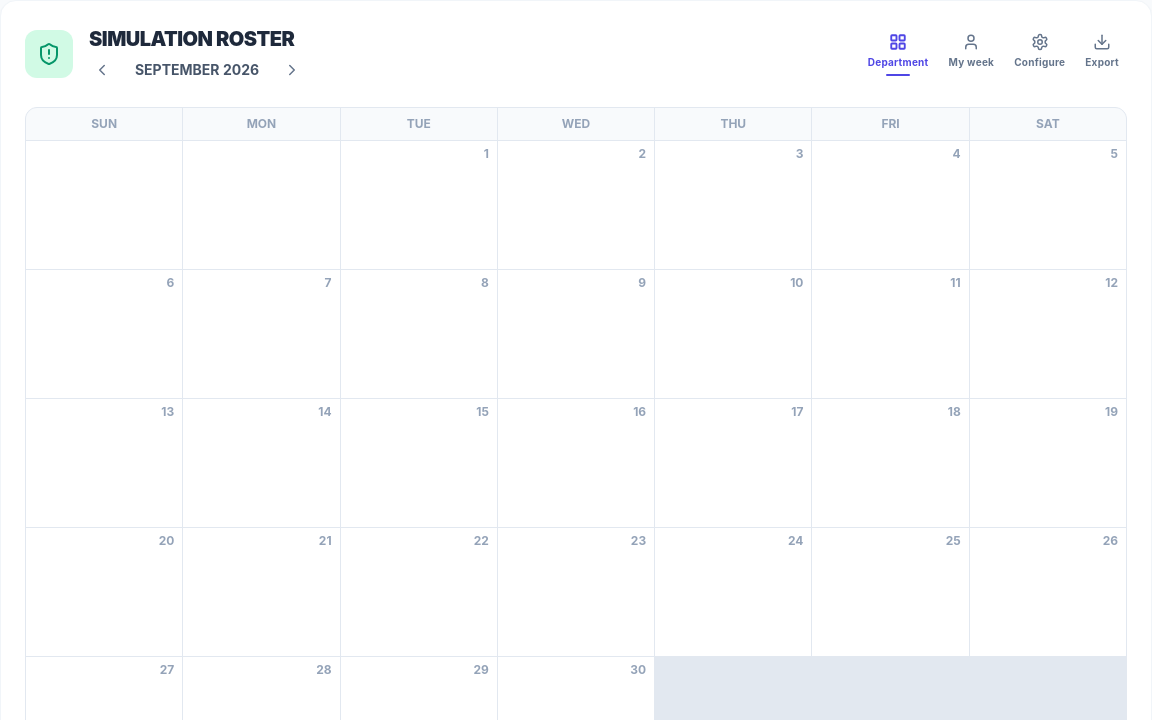
it: the nine controls are on screen in the sandbox wizard › states the continuity trade-off on screen, where the surprise would happen
Step 1. Click the button "Configure" → point(1040, 54), box [1006,26,1073,82]
(page scrolled)
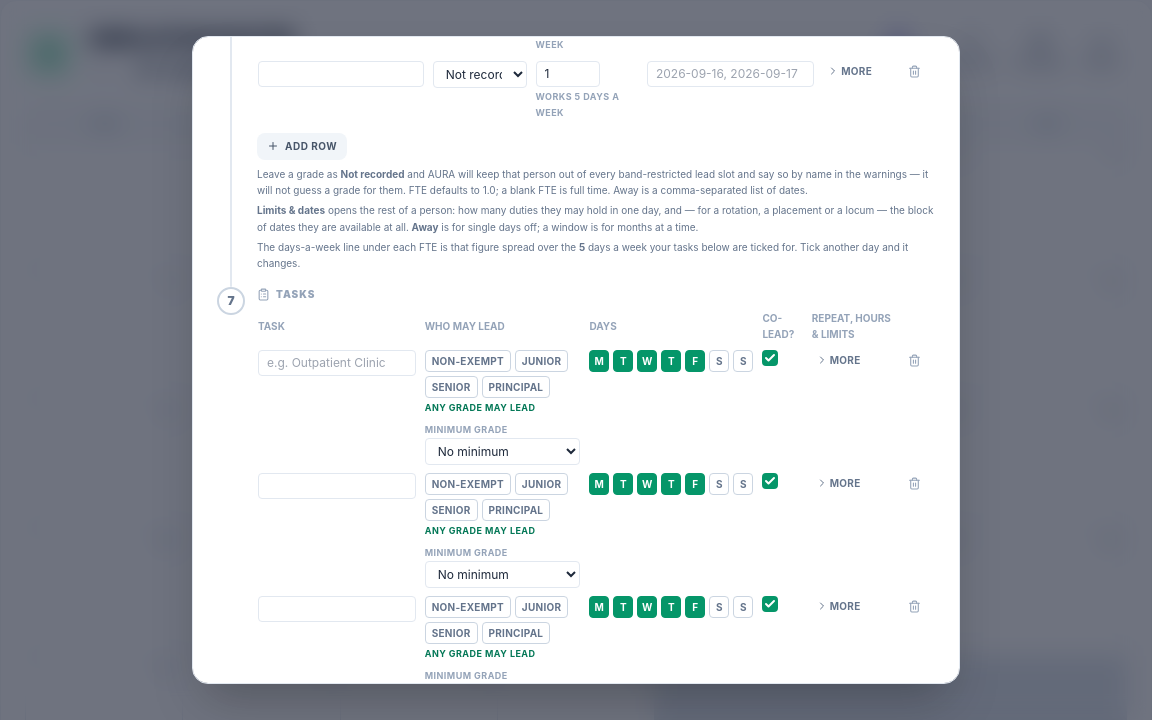
Step 2. Click the 2nd button "More" → point(838, 360), box [812,350,864,370]
(page scrolled)
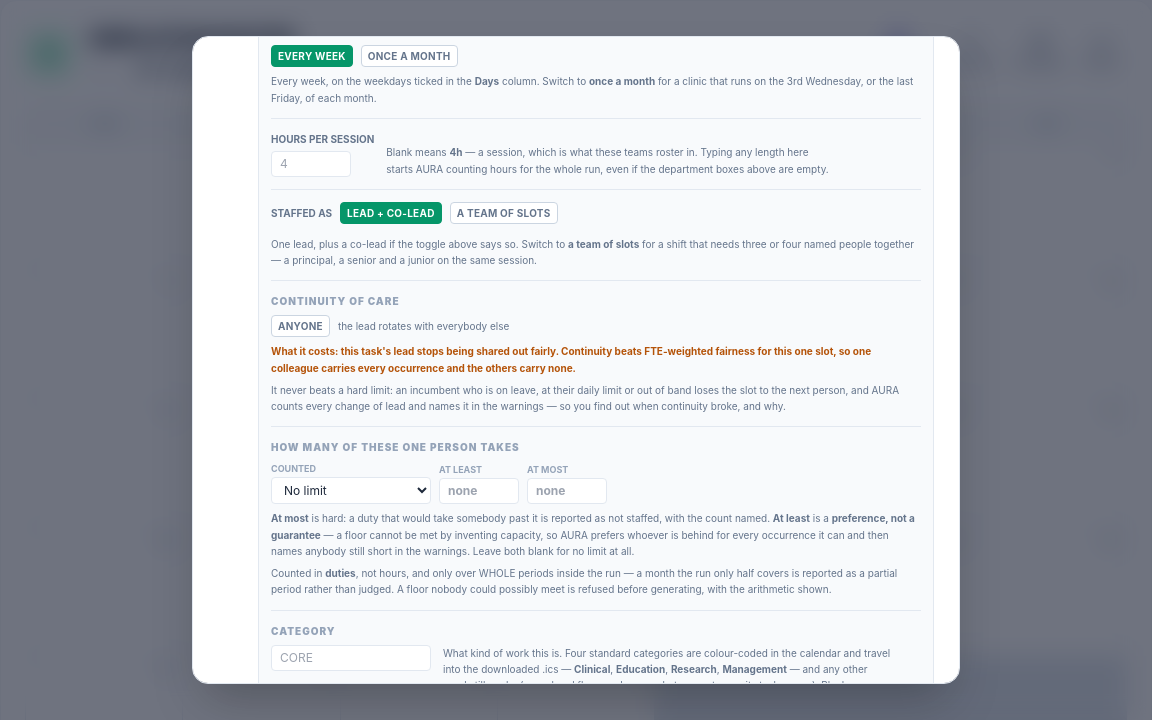
Expected: the text "beats FTE-weighted fairness" is shown, [271,345,871,374]
